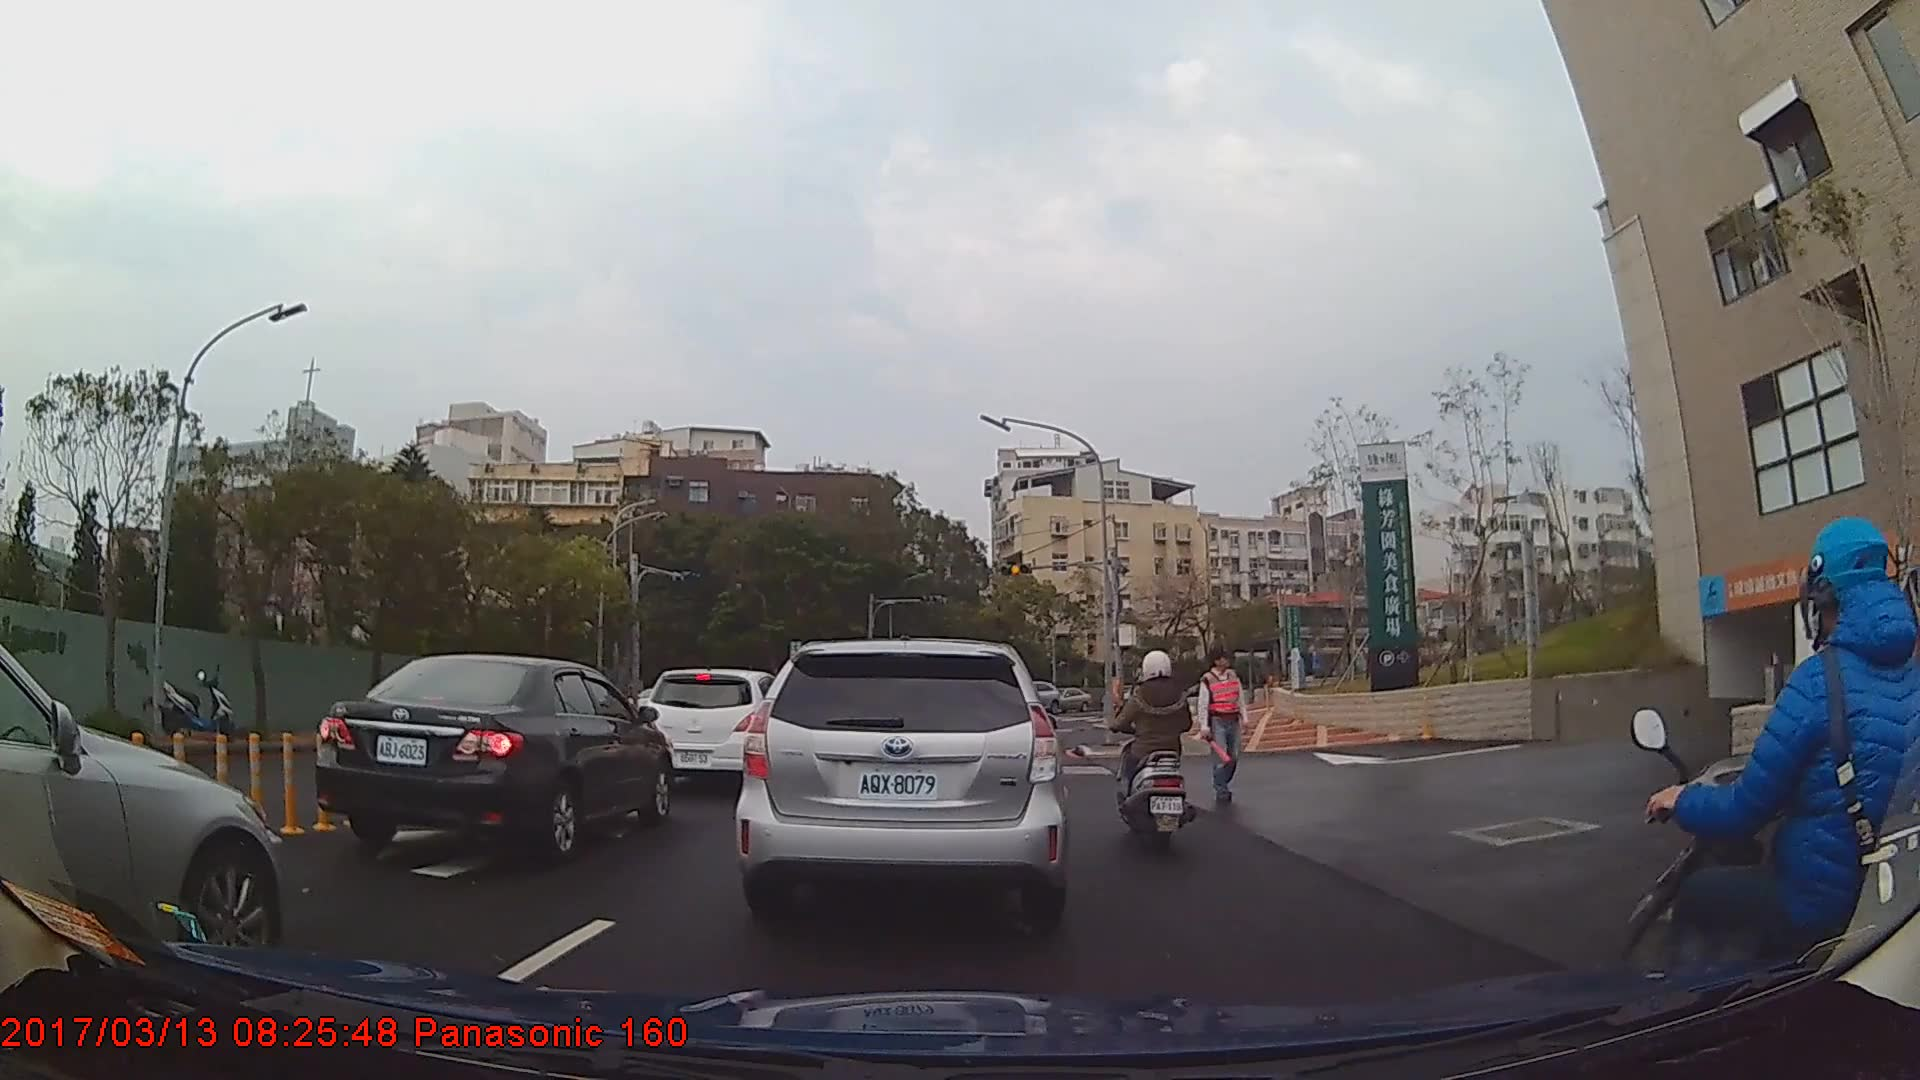pedestrian: (1197, 647, 1252, 802)
rider: (1610, 516, 1920, 1080), (1115, 649, 1197, 853)
vehicle: (733, 635, 1068, 928), (0, 639, 282, 973), (313, 653, 674, 858), (641, 667, 788, 790), (1053, 682, 1093, 711)
